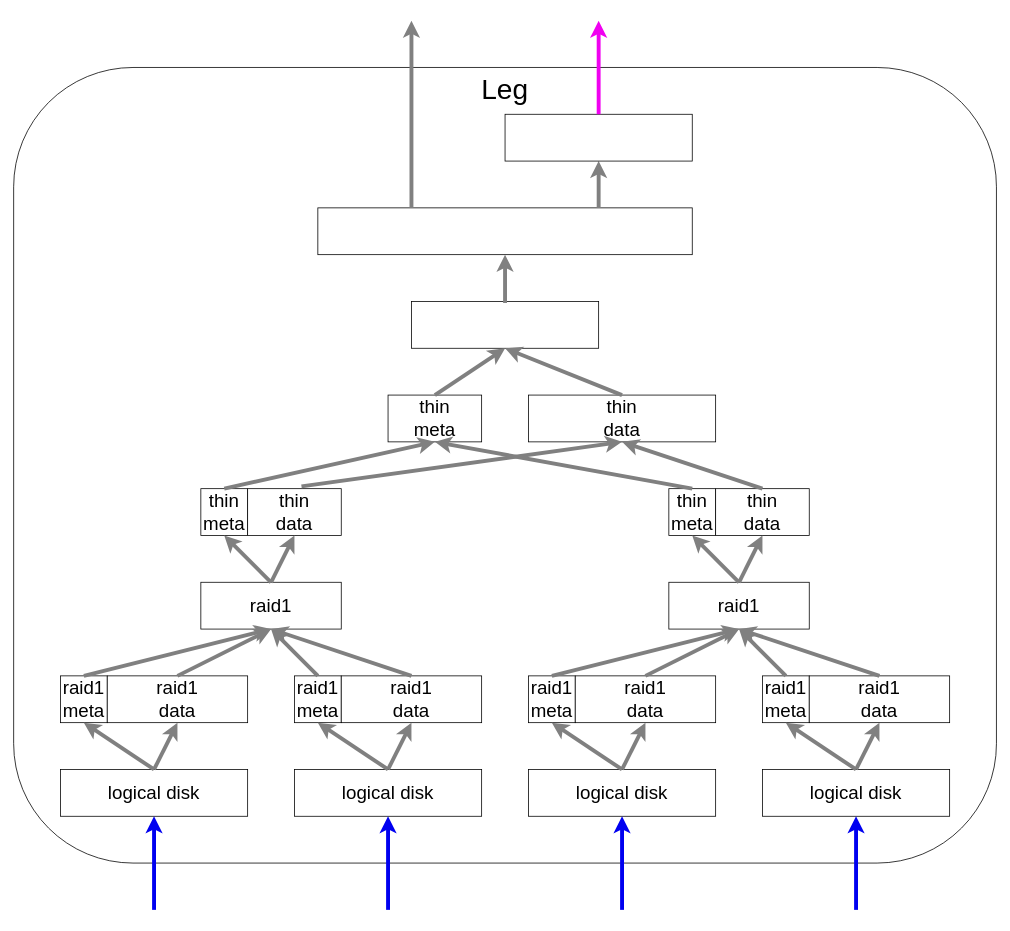
Some shapes in this 1010 by 931 pixel diagram are drawn without their labels. The shapes that lost their labels are listed below. From the top down, each one's centre as x and y in pixels, then its label:
At [598,137]: "nvmeof target".
At [504,231]: "thin dev".
At [505,324]: "thin pool".
